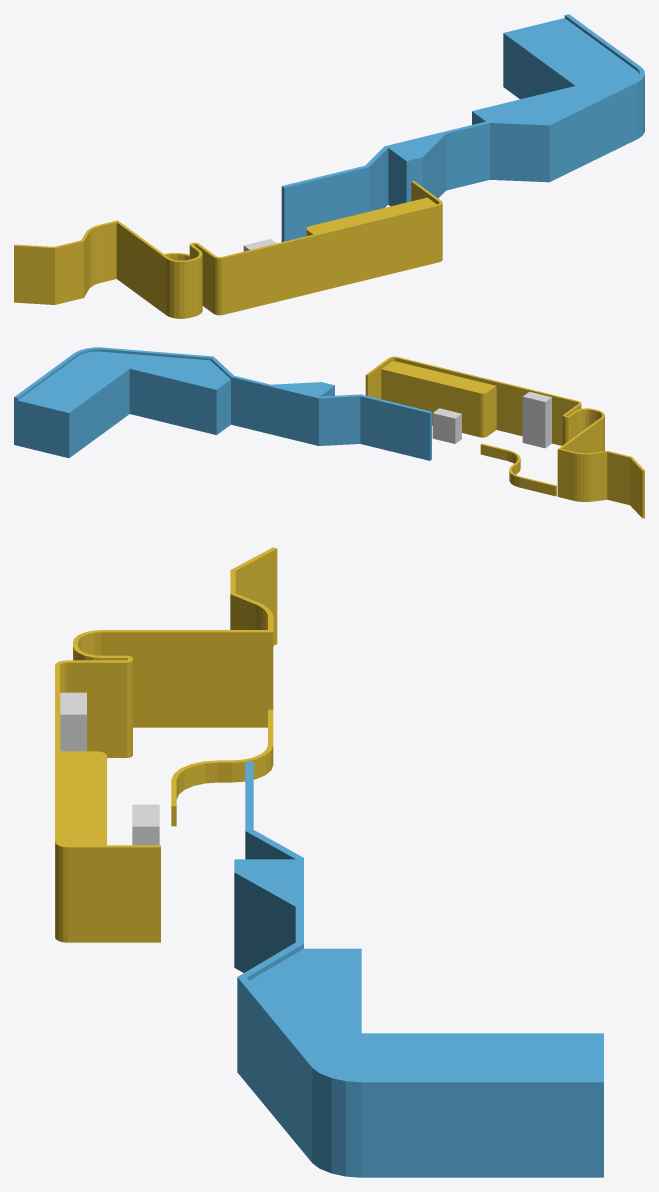
Rendered from model-space.glb.
The picture shows the model from 3 angles, top to bottom: view 1: azimuth 30°, elevation 25°; view 2: azimuth 150°, elevation 25°; view 3: azimuth 270°, elevation 25°; orthographic projection. The views are drawn at different scales.
Parts seen in each view (by area): view 1: wall-blue, wall-yellow; view 2: wall-blue, wall-yellow, coffee-shop, reservation-desk; view 3: wall-blue, wall-yellow, coffee-shop, reservation-desk.
Boxes of the visible parts, bbox=[...] form: wall-blue: bbox=[281, 14, 644, 242]; wall-yellow: bbox=[14, 181, 442, 318]; wall-blue: bbox=[14, 347, 431, 460]; wall-yellow: bbox=[365, 356, 644, 518]; coffee-shop: bbox=[522, 391, 551, 448]; reservation-desk: bbox=[432, 408, 461, 443]; wall-blue: bbox=[234, 761, 603, 1177]; wall-yellow: bbox=[55, 547, 277, 942]; coffee-shop: bbox=[60, 692, 86, 751]; reservation-desk: bbox=[132, 804, 159, 845].
Bounding box in the file's own units: 12.03 × 1 × 5.22.
